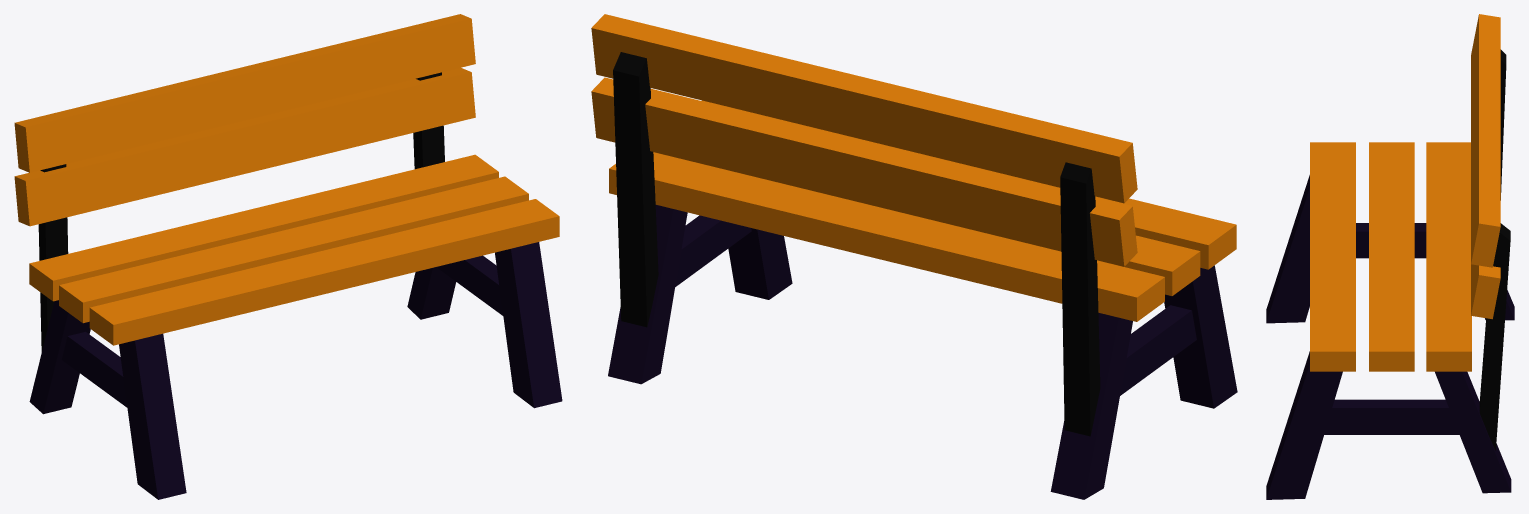
Rendered from Bench.glb.
3 views of the same model, side by side, from view 1: azimuth 30°, elevation 25°; view 2: azimuth 150°, elevation 25°; view 3: azimuth 270°, elevation 25° (orthographic). The views are drawn at different scales.
Parts seen in each view (by area): view 1: Leg.005; view 2: Leg.005; view 3: Leg.005.
Boxes of the visible parts, bbox=[...] form: Leg.005: bbox=[14, 14, 562, 499]; Leg.005: bbox=[591, 14, 1237, 499]; Leg.005: bbox=[1266, 14, 1514, 499].
Size of the model in its own units: 6.26 by 3.98 by 3.14.
